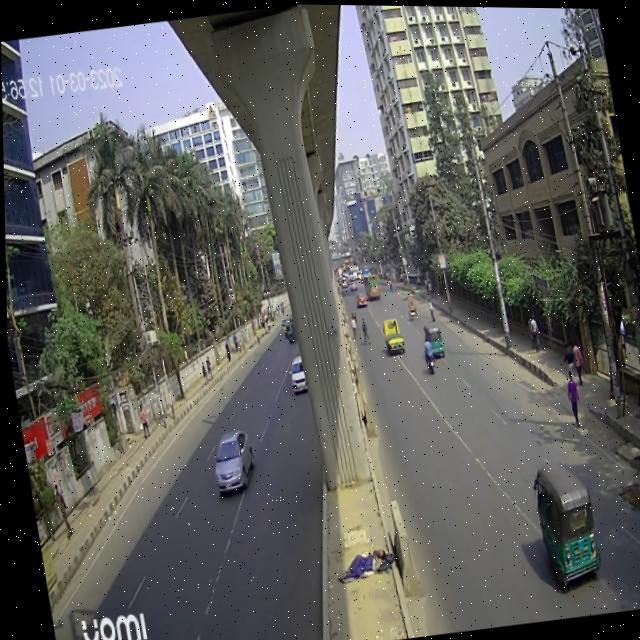cng: (521, 446, 608, 599), (421, 322, 444, 360)
